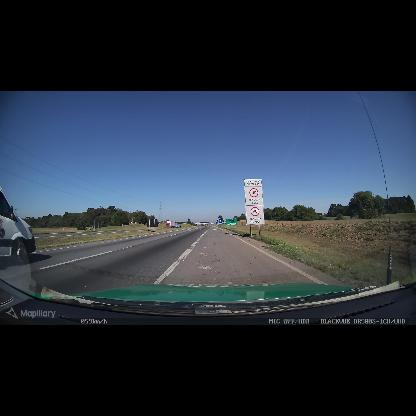I-SA: (243, 179, 262, 187)
R-19: (244, 186, 265, 225)
